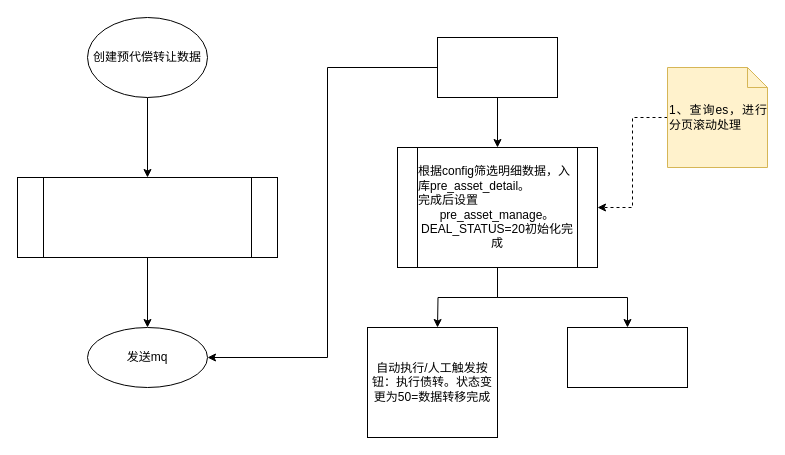
This 785x455 diagram has some shape labels left out. The centre of each missing label's shape, as x and y in pixels:
insert pre_asset_manage和config，设置DEAL_STATUS=10初始化中: [147,217]
mq消费: [497,67]
导出2类文件，发送mq，异步下载: [627,357]
